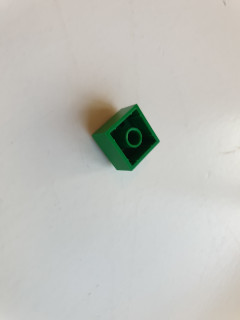2x2 green: (90, 102, 161, 173)
